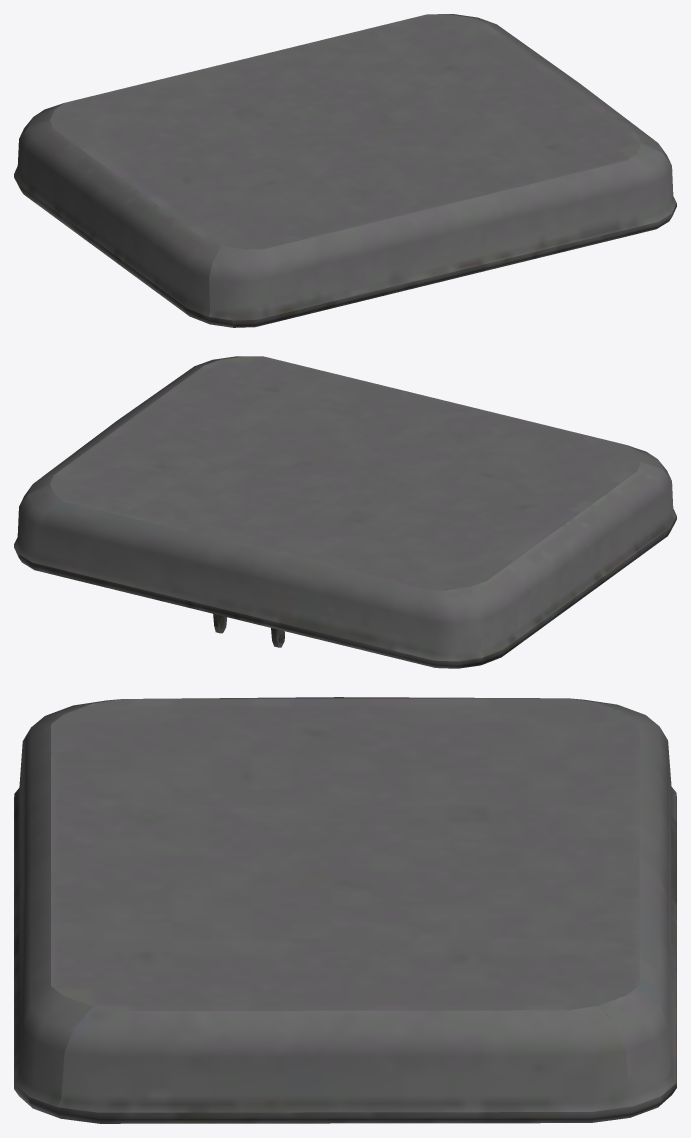
File: trashBinCap02.FBX
3 views of the same model, one above another, from view 1: azimuth 30°, elevation 25°; view 2: azimuth 150°, elevation 25°; view 3: azimuth 270°, elevation 25° (orthographic). The views are drawn at different scales.
Parts seen in each view (by area): view 1: SM_TrashBinCap02; view 2: SM_TrashBinCap02; view 3: SM_TrashBinCap02.
Boxes of the visible parts, x1=… form: SM_TrashBinCap02: x1=14, y1=14, x2=676, y2=327; SM_TrashBinCap02: x1=14, y1=356, x2=676, y2=668; SM_TrashBinCap02: x1=14, y1=697, x2=676, y2=1123.
Size of the model in its own units: 26.55 by 5.09 by 21.34.
Materials: 1 (1 with a texture image).
